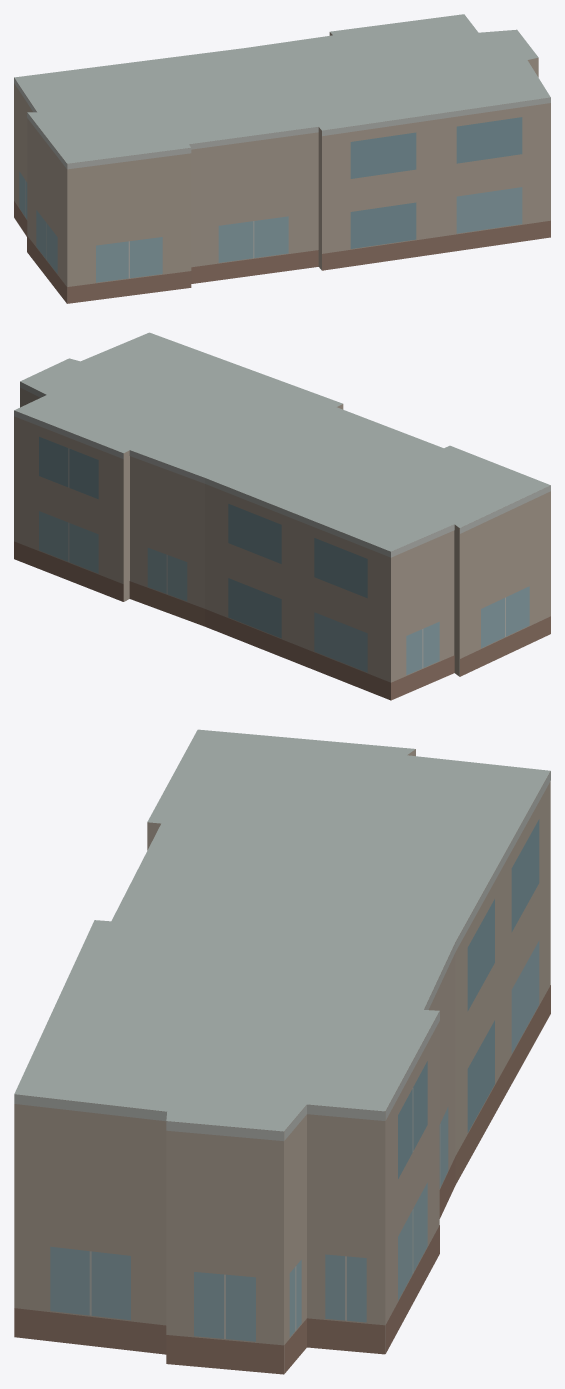
The model's file is survey-upis-32655556.glb.
3 views of the same model, one above another, from view 1: azimuth 30°, elevation 25°; view 2: azimuth 150°, elevation 25°; view 3: azimuth 270°, elevation 25° (orthographic). The views are drawn at different scales.
Visible parts, largest first — view 1: survey-upis-32655556.tmp; view 2: survey-upis-32655556.tmp; view 3: survey-upis-32655556.tmp.
Part boxes in pixels (x1,y1,x2,y2): survey-upis-32655556.tmp: [14, 14, 550, 303]; survey-upis-32655556.tmp: [14, 332, 550, 700]; survey-upis-32655556.tmp: [14, 729, 550, 1374].
Size of the model in its own units: 21.66 by 6.1 by 12.22.
